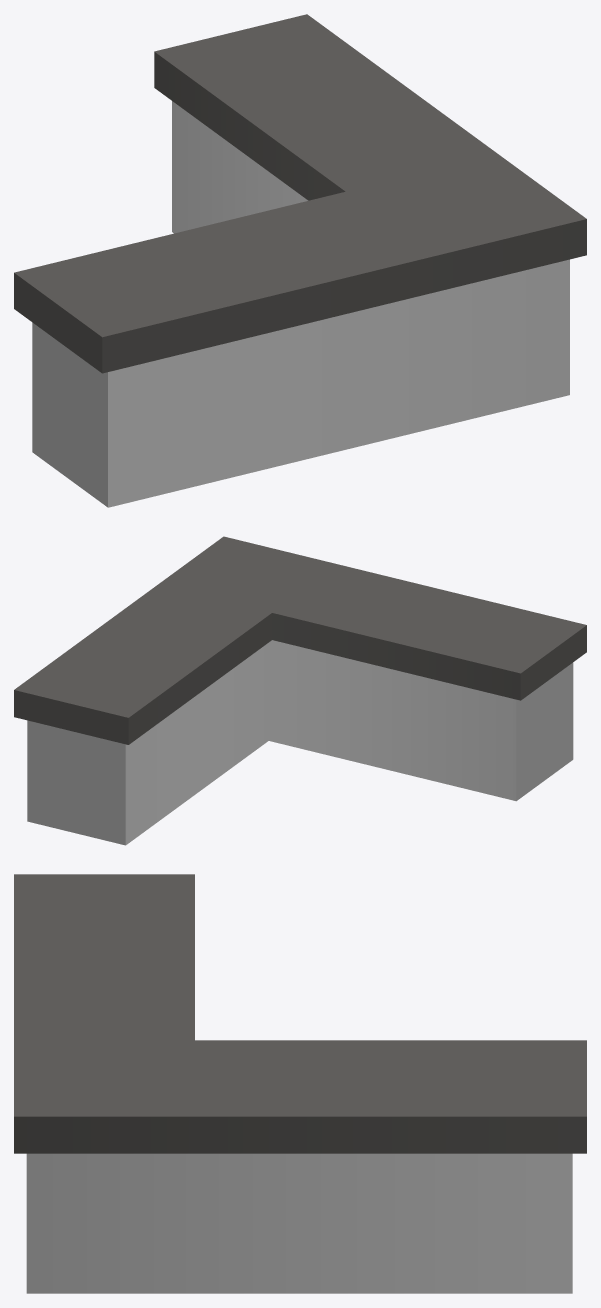
File: ConcreteBench2.glb
3 views of the same model, one above another, from view 1: azimuth 30°, elevation 25°; view 2: azimuth 150°, elevation 25°; view 3: azimuth 270°, elevation 25° (orthographic). The views are drawn at different scales.
Visible parts, largest first — view 1: SI_Prop_ConcreteBench_02; view 2: SI_Prop_ConcreteBench_02; view 3: SI_Prop_ConcreteBench_02.
Boxes of the visible parts, x1,y1,x2,y2 form: SI_Prop_ConcreteBench_02: (14,14,586,507); SI_Prop_ConcreteBench_02: (14,536,586,845); SI_Prop_ConcreteBench_02: (14,874,586,1293).
Bounding box in the file's own units: 0.0369 × 0.0129 × 0.0369.
Materials: 1 (1 with a texture image).
